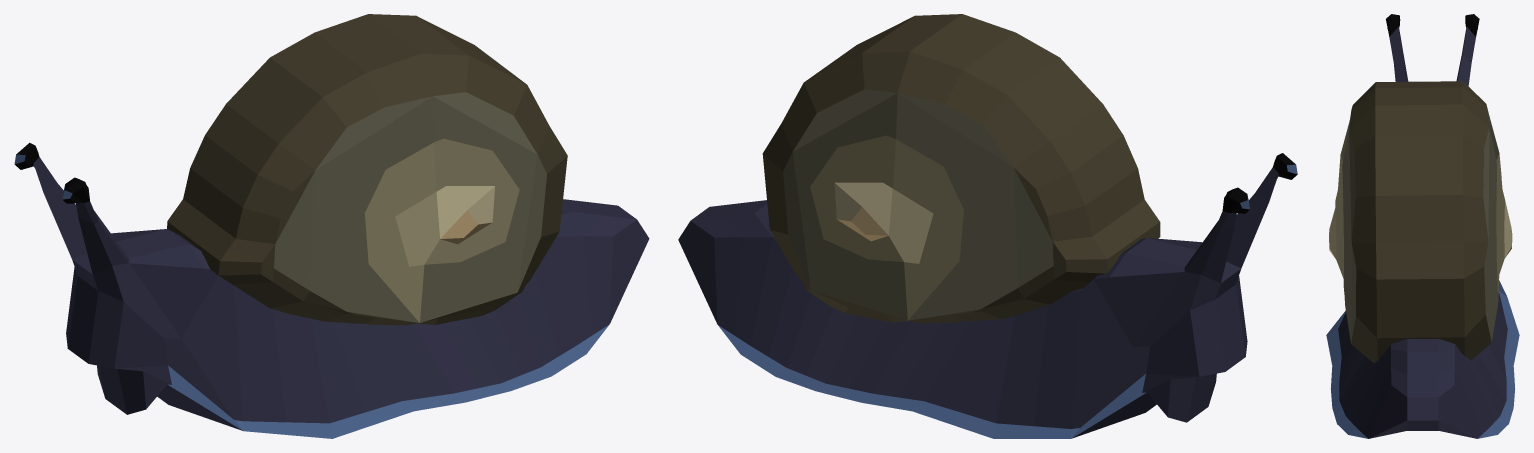
Rendered from SnailAnimated.fbx.
3 views of the same model, side by side, from view 1: azimuth 30°, elevation 25°; view 2: azimuth 150°, elevation 25°; view 3: azimuth 270°, elevation 25° (orthographic). The views are drawn at different scales.
Parts seen in each view (by area): view 1: Shell, Body; view 2: Shell, Body; view 3: Shell, Body.
Part boxes in pixels (left/top/right/bottom): Shell: left=167, top=14, right=567, bottom=325; Body: left=14, top=142, right=649, bottom=438; Shell: left=762, top=14, right=1160, bottom=323; Body: left=678, top=153, right=1297, bottom=438; Shell: left=1329, top=81, right=1512, bottom=363; Body: left=1326, top=14, right=1519, bottom=438.
Bounding box in the file's own units: 1.33 × 0.7179 × 0.451.
